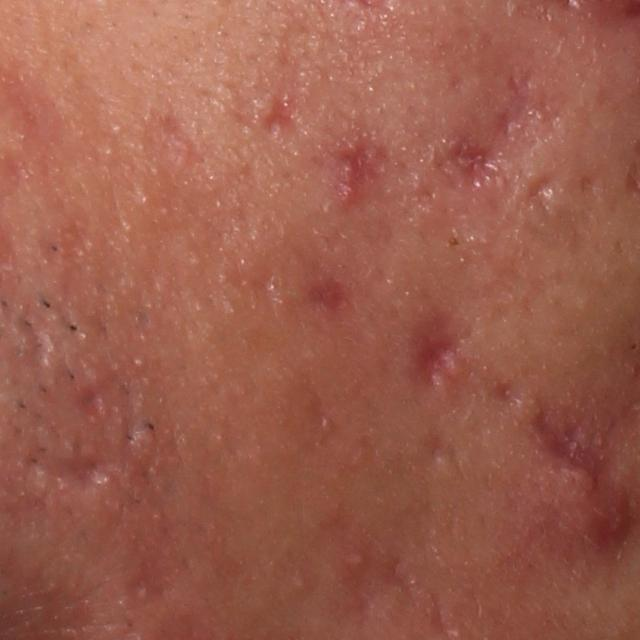atrophic_scar: (437, 74, 559, 191), (330, 126, 396, 211), (37, 447, 128, 497), (409, 318, 468, 375), (14, 305, 51, 378), (67, 378, 116, 427), (297, 281, 356, 319), (262, 90, 297, 133), (513, 173, 551, 212)
papule: (340, 542, 374, 577)
